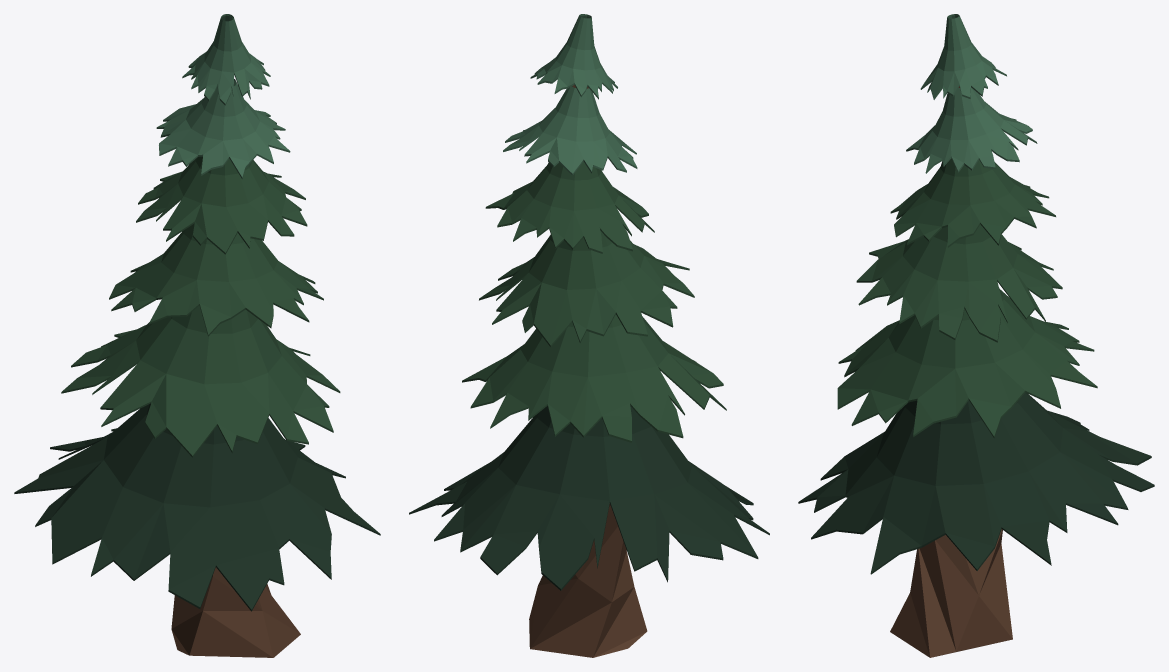
File: SmallTree.fbx
The picture shows the model from 3 angles, left to right: view 1: azimuth 30°, elevation 25°; view 2: azimuth 150°, elevation 25°; view 3: azimuth 270°, elevation 25°; orthographic projection.
Parts seen in each view (by area): view 1: Circle.001; view 2: Circle.001; view 3: Circle.001.
Part boxes in pixels (x1,y1,x2,y2): Circle.001: [14, 14, 380, 657]; Circle.001: [409, 14, 769, 657]; Circle.001: [798, 14, 1154, 657].
Bounding box in the file's own units: 483 × 945 × 498.
